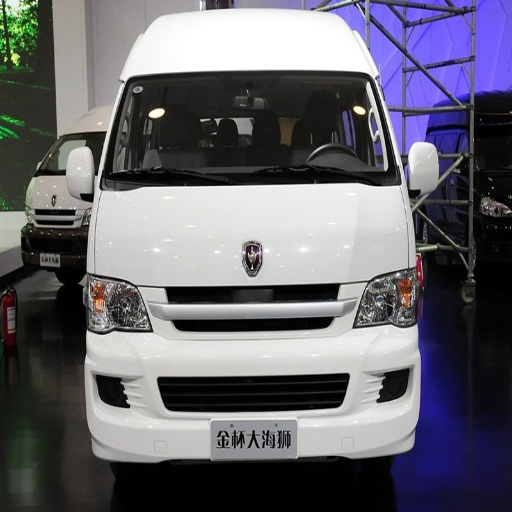front_bumper: (86, 281, 416, 453)
front_right_light: (83, 272, 151, 333)
hood: (95, 186, 409, 286)
left_mirror: (408, 142, 440, 194)
